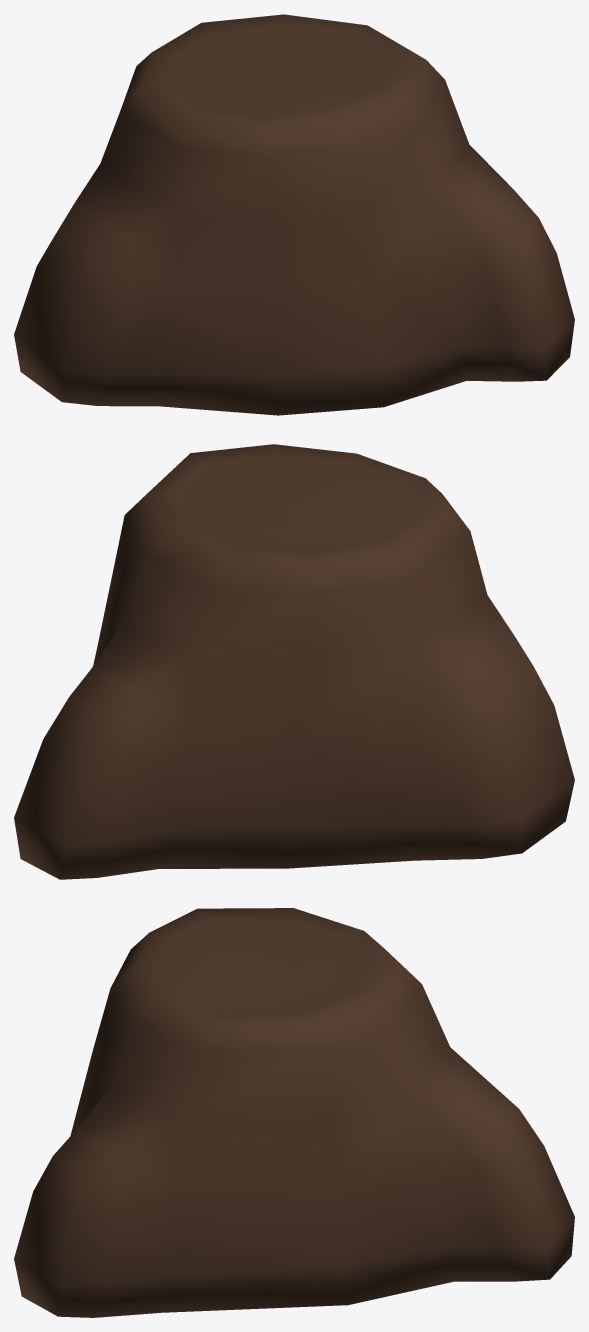
File: shuzhuang.fbx
3 renders of one model, top to bottom at view 1: azimuth 30°, elevation 25°; view 2: azimuth 150°, elevation 25°; view 3: azimuth 270°, elevation 25°, orthographic. The views are drawn at different scales.
Visible parts, largest first — view 1: Stump_B_01_LOD1_Mat_Nature_0; view 2: Stump_B_01_LOD1_Mat_Nature_0; view 3: Stump_B_01_LOD1_Mat_Nature_0.
Part boxes in pixels (x1,y1,x2,y2): Stump_B_01_LOD1_Mat_Nature_0: [14, 14, 574, 415]; Stump_B_01_LOD1_Mat_Nature_0: [14, 444, 574, 879]; Stump_B_01_LOD1_Mat_Nature_0: [14, 908, 574, 1317].
Size of the model in its own units: 0.8726 by 0.5214 by 0.9724.
